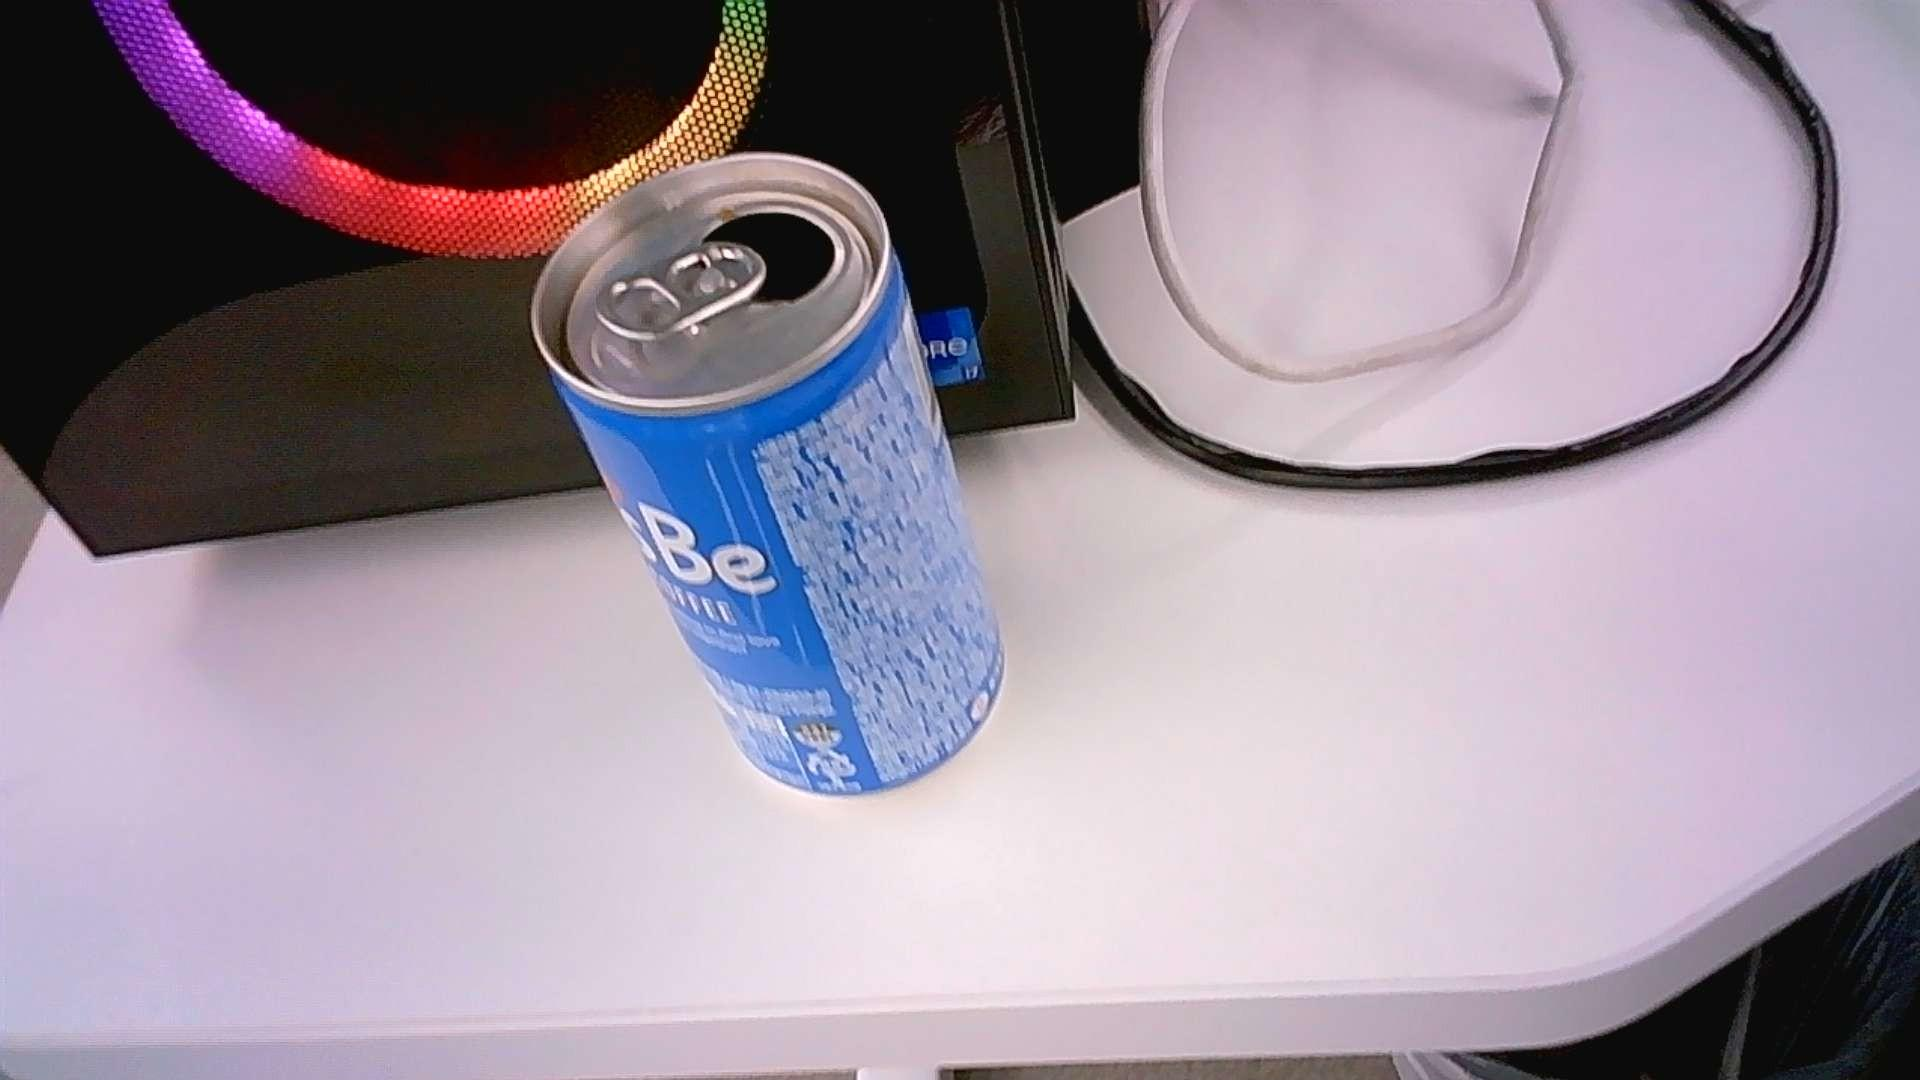letsbe: (533, 149, 1007, 798)
